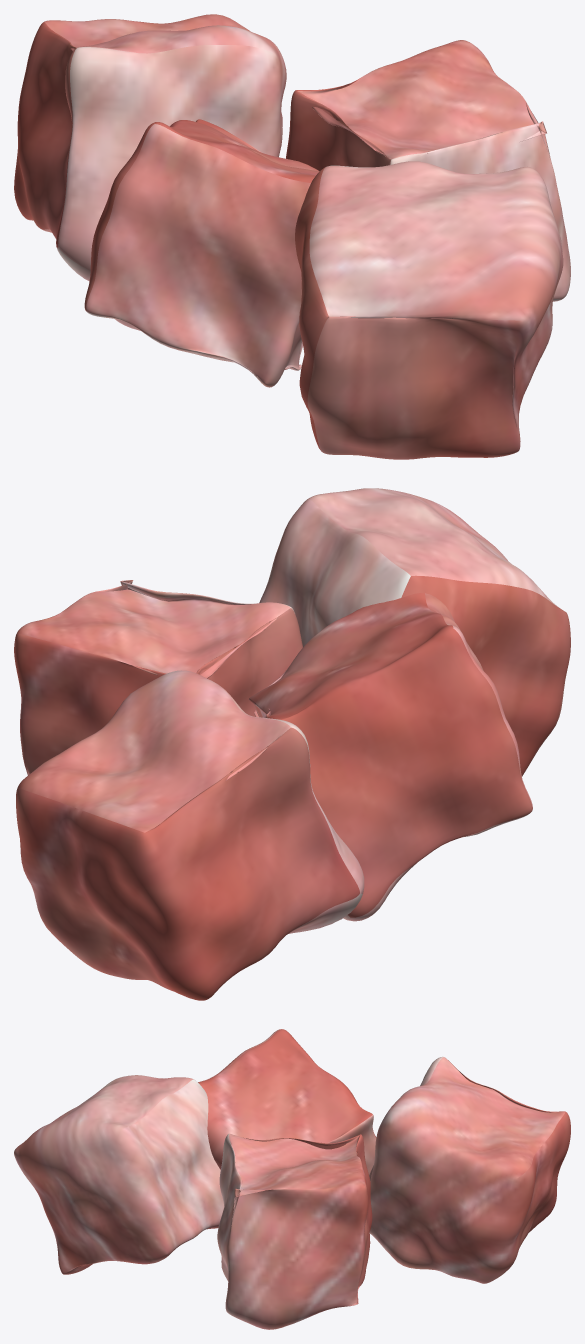
Rendered from DicedRawChickenMeat.fbx.
The picture shows the model from 3 angles, top to bottom: view 1: azimuth 30°, elevation 25°; view 2: azimuth 150°, elevation 25°; view 3: azimuth 270°, elevation 25°; orthographic projection. The views are drawn at different scales.
Parts seen in each view (by area): view 1: DicedRawChickenMeat; view 2: DicedRawChickenMeat; view 3: DicedRawChickenMeat.
Part boxes in pixels (box(x1,y1,x2,y2)): DicedRawChickenMeat: box(14, 14, 570, 459); DicedRawChickenMeat: box(14, 488, 570, 1000); DicedRawChickenMeat: box(14, 1029, 570, 1329).
Bounding box in the file's own units: 508 × 279 × 760.
